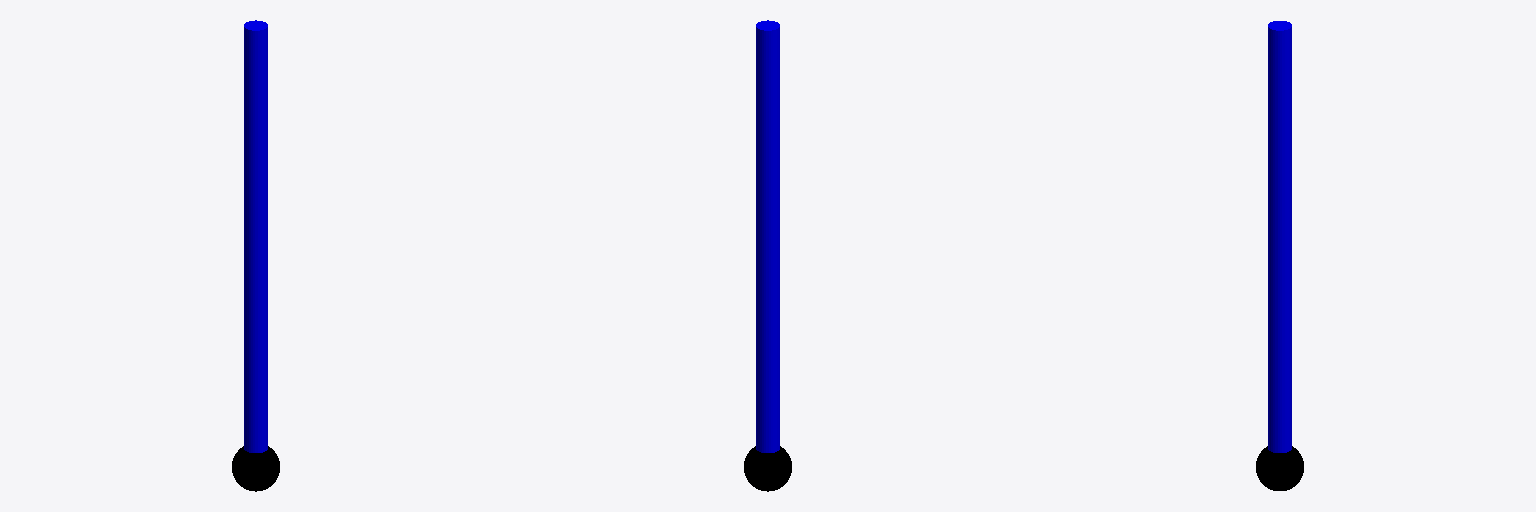
robot.urdf — three_link_walker:
<?xml version="1.0" ?>
<!-- =================================================================================== -->
<!-- |    This document was autogenerated by xacro from three_link_walker.xacro        | -->
<!-- |    EDITING THIS FILE BY HAND IS NOT RECOMMENDED                                 | -->
<!-- =================================================================================== -->
<robot name="three_link_walker" xmlns:xacro="http://ros.org/wiki/xacro">
  <link name="base">
    <inertial>
      <origin rpy="0 0 0" xyz="0 0 0"/>
      <mass value="15"/>
      <inertia ixx="0" ixy="0" ixz="0" iyy="0" iyz="0" izz="0"/>
    </inertial>
    <visual>
      <geometry>
        <sphere radius="0.05"/>
      </geometry>
      <material name="black">
        <color rgba="0 0 0 1"/>
      </material>
    </visual>
  </link>
  <!--<link name="torso">
    <inertial>
      <origin rpy="0 0 0" xyz="0 0 0.25"/>
      <mass value="10"/>
      <inertia ixx="0" ixy="0" ixz="0" iyy="0" iyz="0" izz="0"/>
    </inertial>
    <visual>
      <origin xyz="0 0 0.25"/>
      <geometry>
        <cylinder length="0.5" radius="0.025"/>
      </geometry>
      <material name="black">
        <color rgba="0 0 0 1"/>
      </material>
    </visual>
  </link>-->
  <link name="right_leg">
    <inertial>
      <origin rpy="0 0 0" xyz="0 0 0.5"/>
      <mass value="5"/>
      <inertia ixx="0" ixy="0" ixz="0" iyy="0" iyz="0" izz="0"/>
    </inertial>
    <visual>
      <origin xyz="0 0 0.5"/>
      <geometry>
        <cylinder length="1.0" radius="0.025"/>
      </geometry>
      <material name="blue">
        <color rgba="0 0 1 1"/>
      </material>
    </visual>
  </link>
  <link name="left_leg">
    <inertial>
      <origin rpy="0 0 0" xyz="0 0 0.5"/>
      <mass value="5"/>
      <inertia ixx="0" ixy="0" ixz="0" iyy="0" iyz="0" izz="0"/>
    </inertial>
    <visual>
      <origin xyz="0 0 0.5"/>
      <geometry>
        <cylinder length="1.0" radius="0.025"/>
      </geometry>
      <material name="red">
        <color rgba="1 0 0 1"/>
      </material>
    </visual>
  </link>
  <!--<joint name="qT" type="fixed">
    <parent link="base"/>
    <child link="torso"/>
  </joint>-->
  <joint name="q_right" type="continuous">
    <origin xyz="0 0 0"/>
    <axis xyz="1 0 0"/>
    <parent link="base"/>
    <child link="right_leg"/>
  </joint>
  <joint name="q_left" type="continuous">
    <origin xyz="0 0 0"/>
    <axis xyz="1 0 0"/>
    <parent link="base"/>
    <child link="left_leg"/>
  </joint>
</robot>

--- What the picture shows (computed from the rendered views, not written in the file) ---
The picture shows the robot from 3 angles, left to right: view 1: azimuth 30°, elevation 25°; view 2: azimuth 150°, elevation 25°; view 3: azimuth 270°, elevation 25°; orthographic projection.
Robot: three_link_walker — 3 links, 2 joints (2 continuous); root link base; default pose: all joints at 0.
Links seen in each view (by area): view 1: right_leg, base; view 2: right_leg, base; view 3: right_leg, base.
Link boxes in pixels (<box>): right_leg: <box>244,20,267,452</box>; base: <box>232,446,279,491</box>; right_leg: <box>756,20,779,452</box>; base: <box>744,446,791,491</box>; right_leg: <box>1268,21,1291,452</box>; base: <box>1256,446,1303,490</box>.
Bounding box of the posed robot: 0.1 × 0.1 × 1.05 m (x, y, z).
Geometry: primitives only (box / cylinder / sphere), no mesh files.
